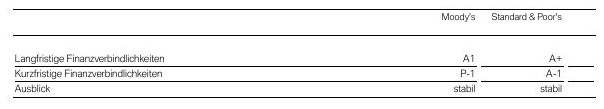table: (0, 0, 604, 109)
